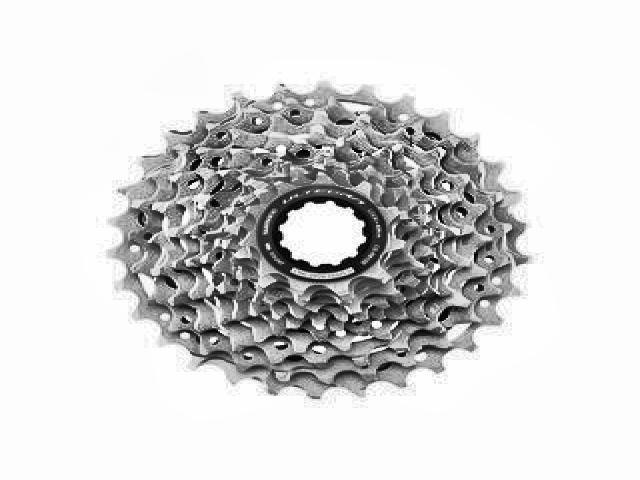cassette: (105, 80, 531, 404)
